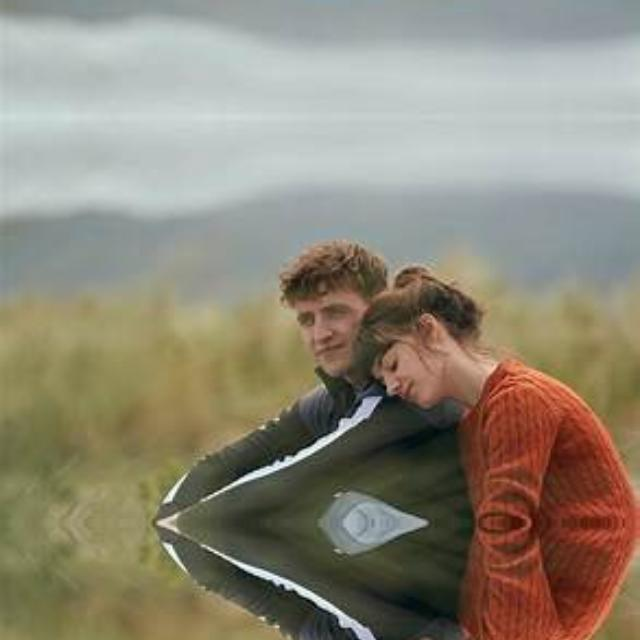person: (256, 233, 368, 461), (366, 286, 509, 432), (256, 583, 367, 640), (366, 611, 509, 640)
